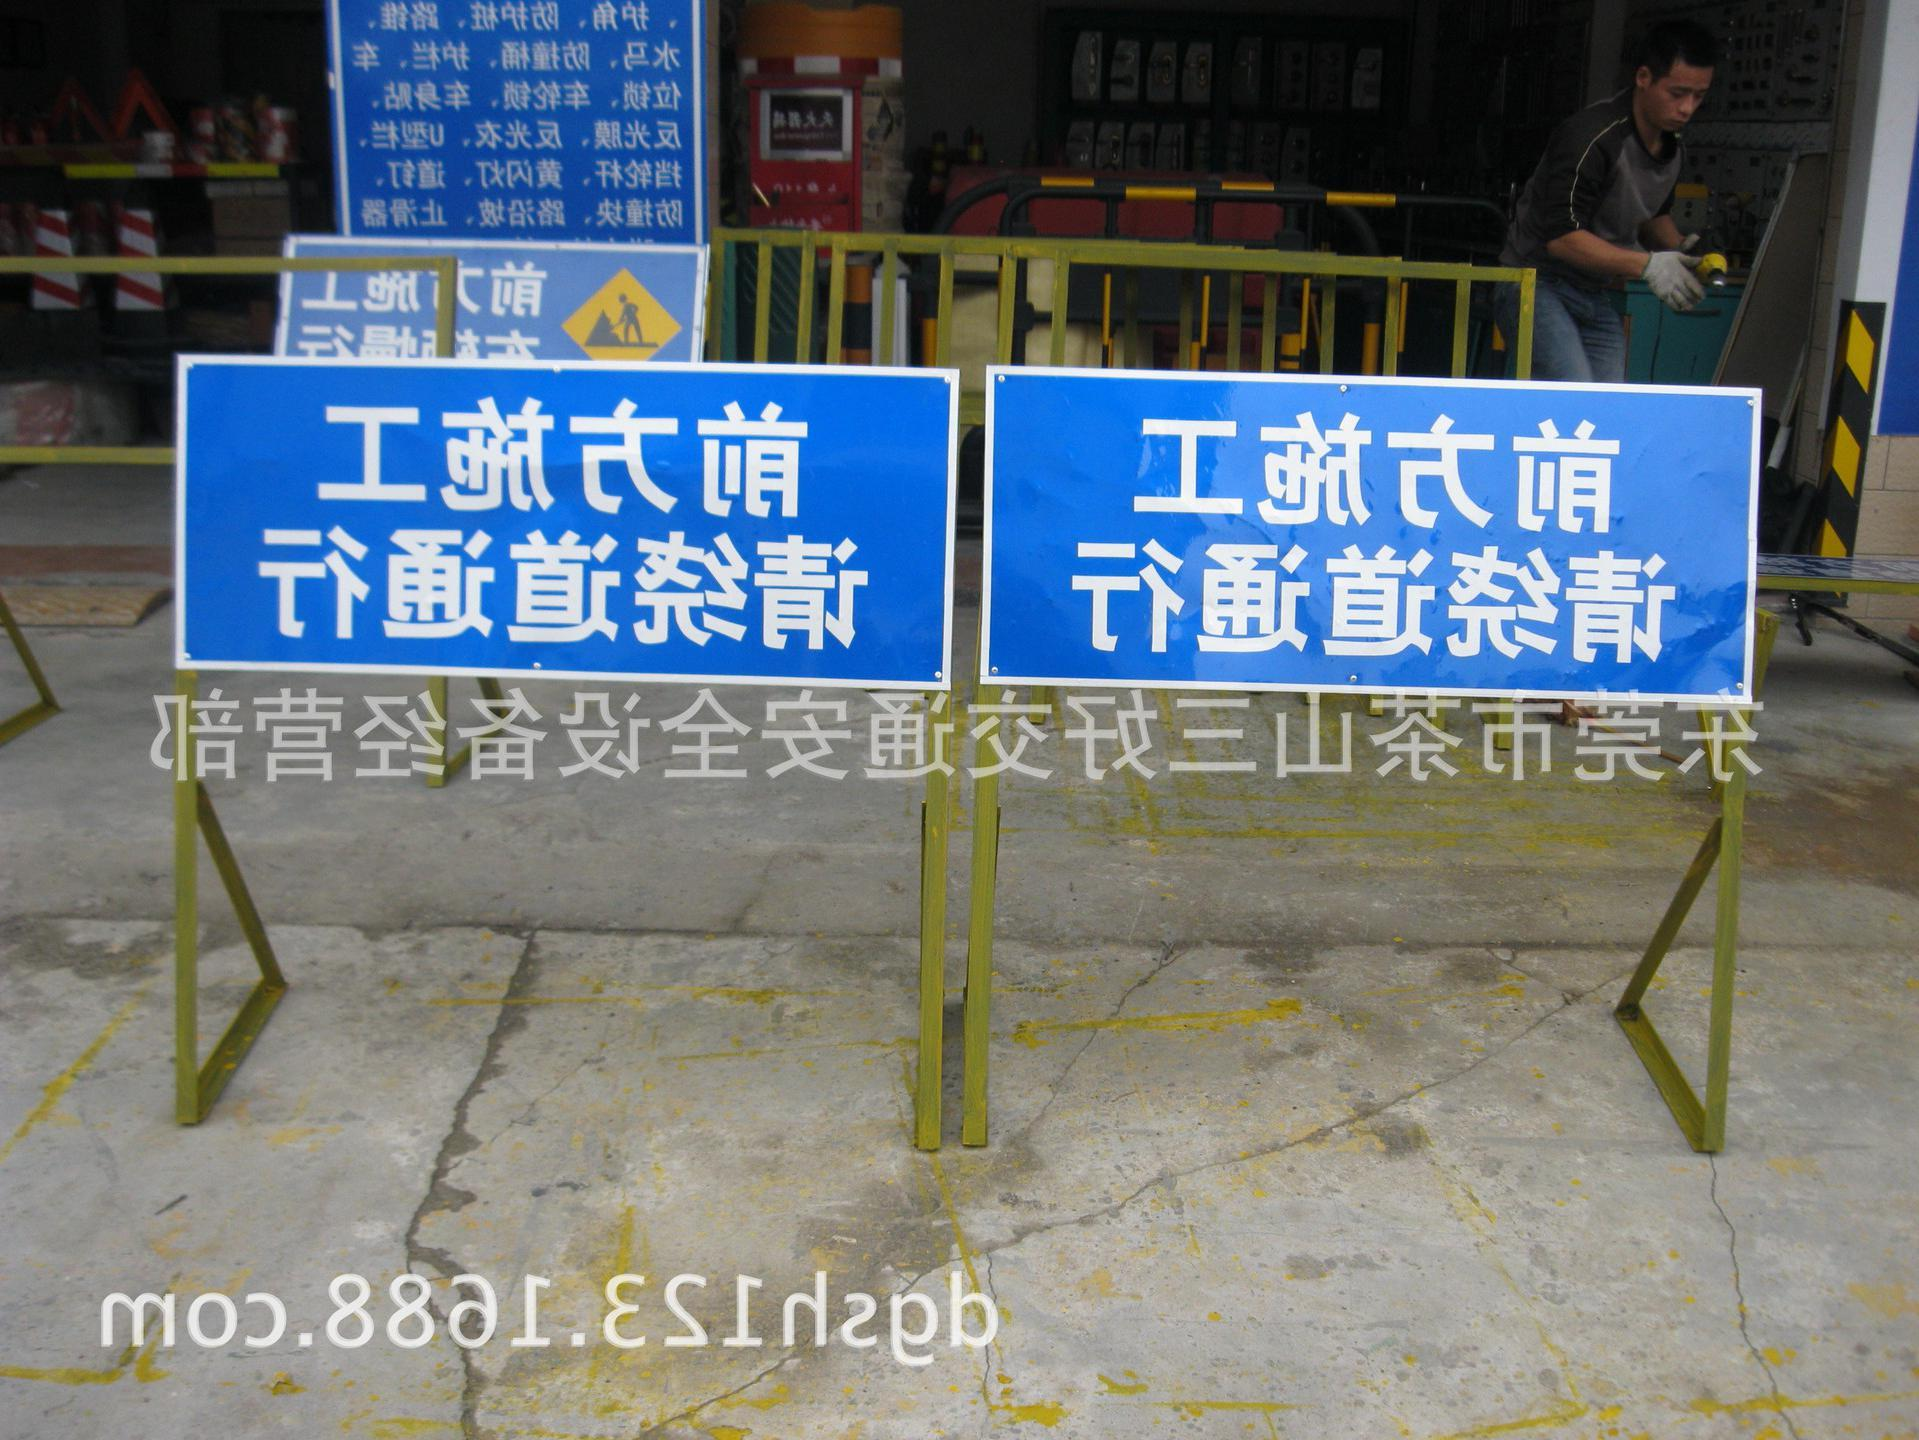sign: (178, 355, 948, 694), (981, 368, 1750, 697), (283, 239, 705, 355)
